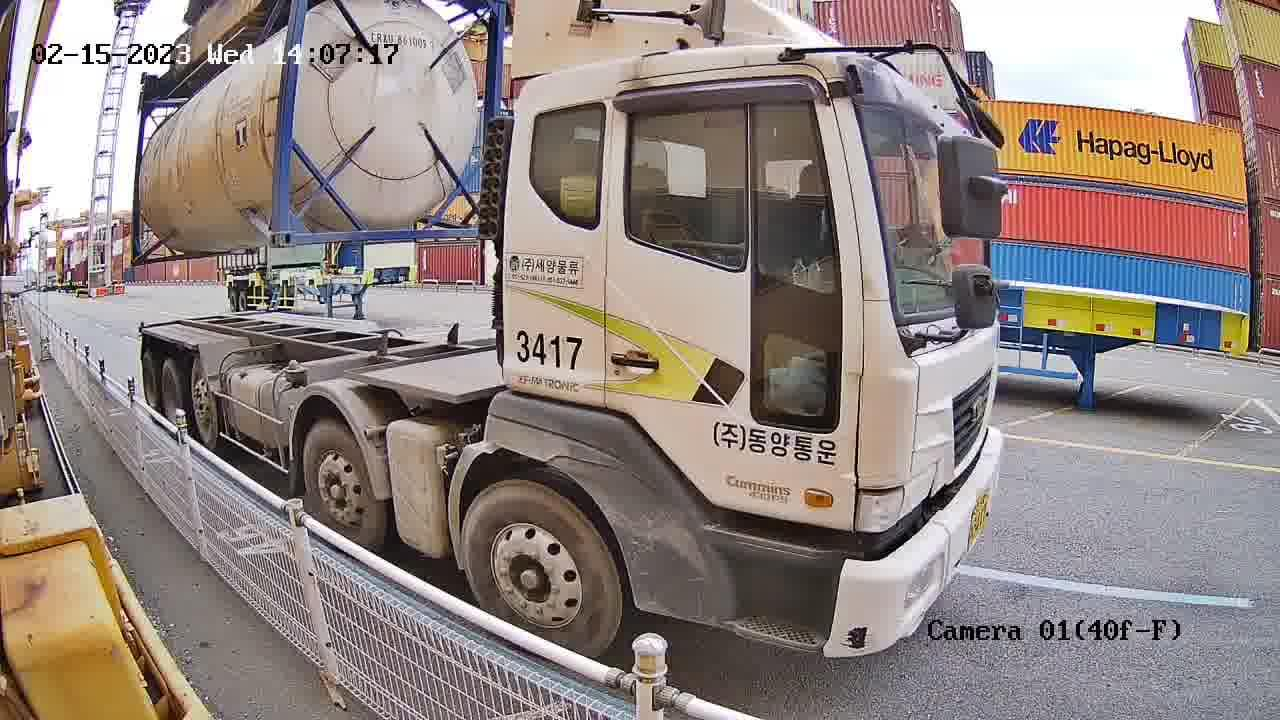Chassis: (285, 332, 485, 383)
Cone: (282, 358, 307, 391)
Hole_L: (279, 204, 319, 246)
Hole_R: (253, 205, 282, 247)
Tire: (462, 482, 623, 655), (304, 423, 378, 544), (187, 365, 223, 448), (159, 362, 188, 422), (142, 353, 161, 406)
